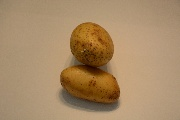potato: (58, 65, 120, 105), (70, 22, 114, 68)
